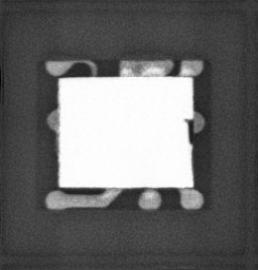DIE_BROKEN: (184, 117, 195, 146)
